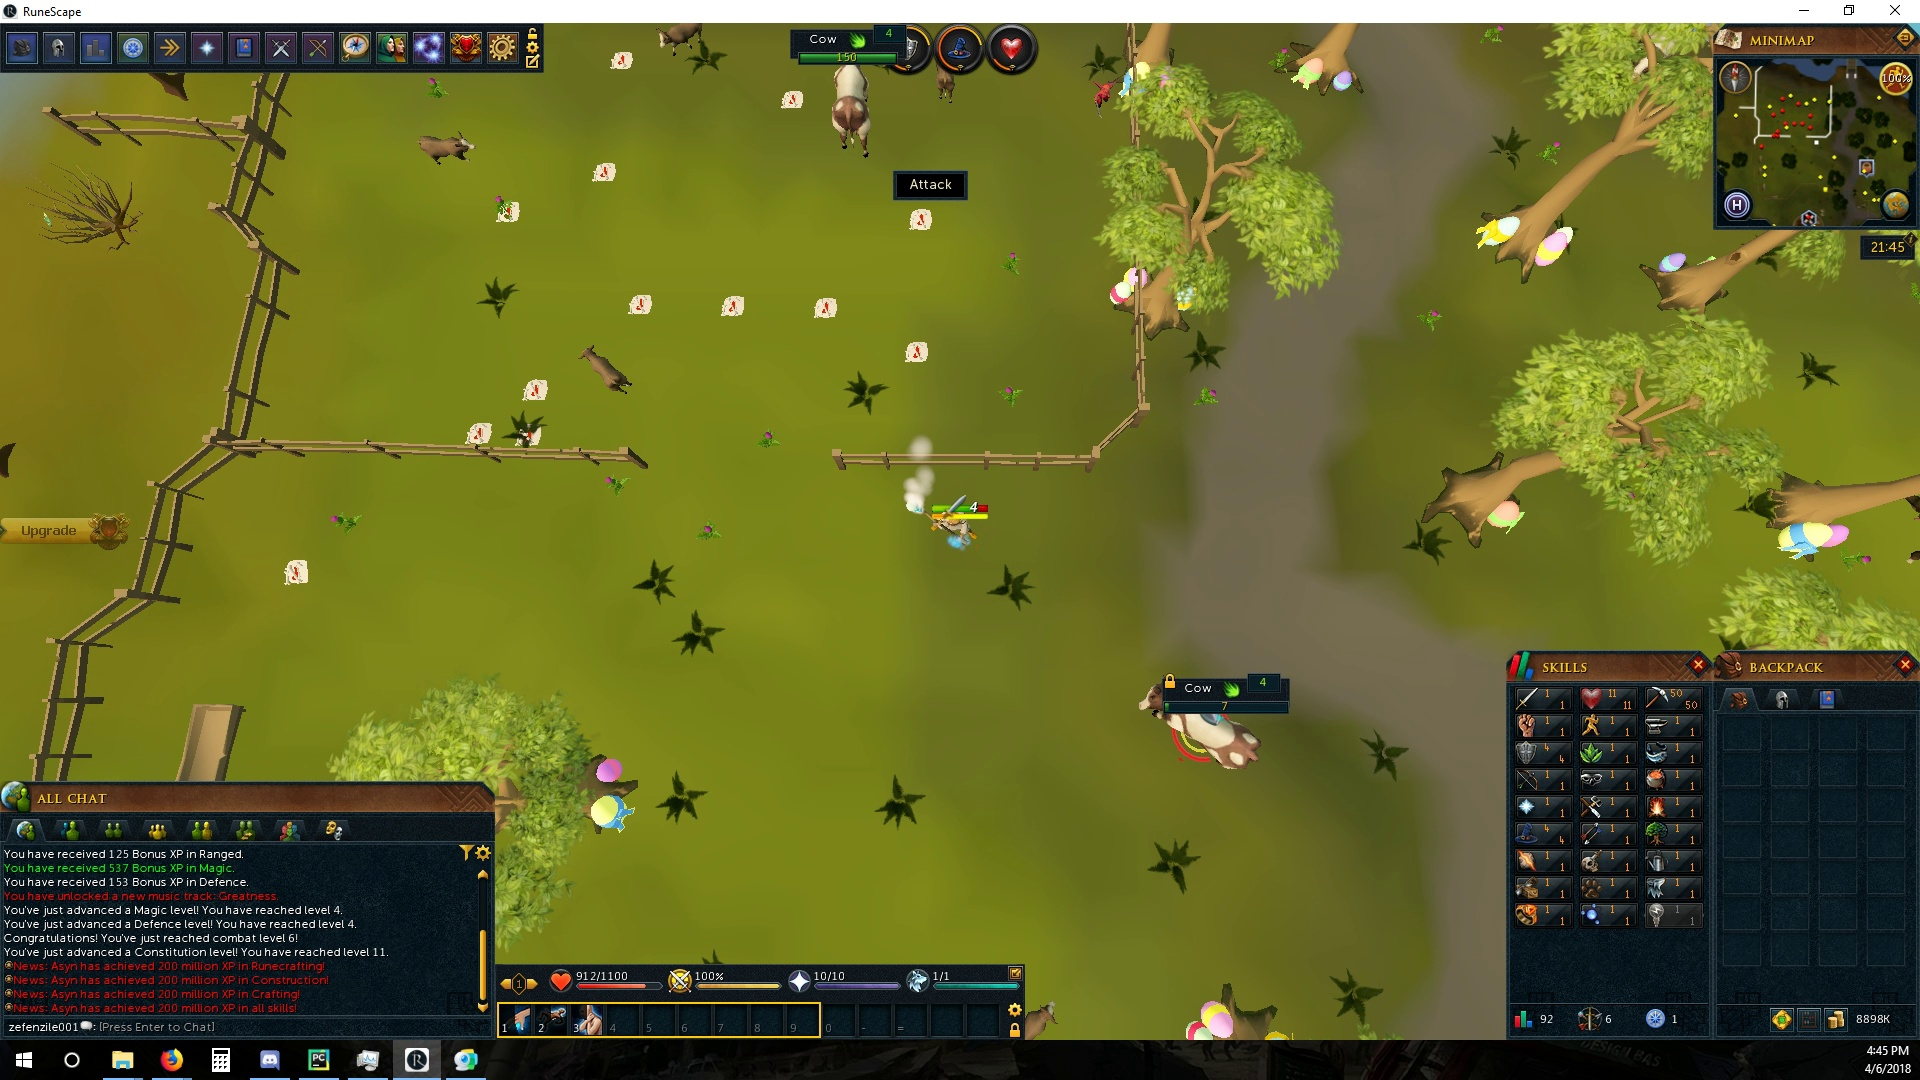calf: (579, 342, 637, 398), (419, 127, 481, 169), (651, 24, 709, 58), (928, 69, 956, 111)
cow: (1131, 676, 1266, 781), (823, 65, 880, 166)
cow_drop: (505, 425, 545, 448), (463, 419, 495, 448), (902, 338, 931, 367), (281, 558, 311, 585), (491, 196, 522, 223), (522, 373, 549, 404), (618, 291, 650, 316), (721, 291, 748, 320), (775, 88, 806, 112), (905, 206, 931, 232), (591, 160, 618, 185), (608, 49, 636, 70), (814, 295, 839, 316)
